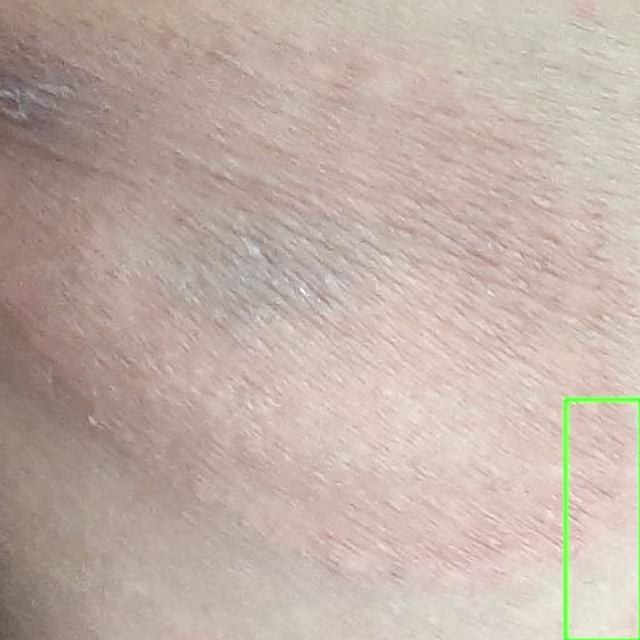Tinea Corporis: (565, 399, 639, 639)
